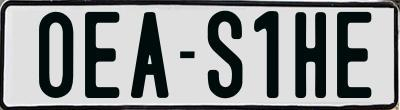0: (36, 10, 73, 99)
1: (254, 9, 285, 102)
A: (131, 9, 170, 98)
E: (85, 9, 124, 101), (335, 10, 369, 100)
H: (294, 12, 325, 98)
S: (207, 11, 242, 103)
